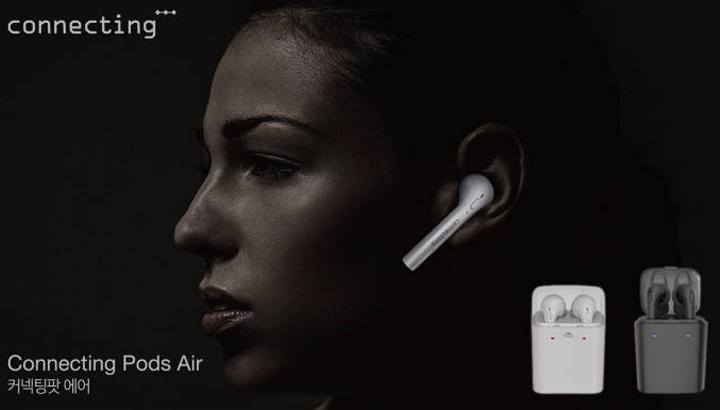earphone: (398, 170, 508, 279)
